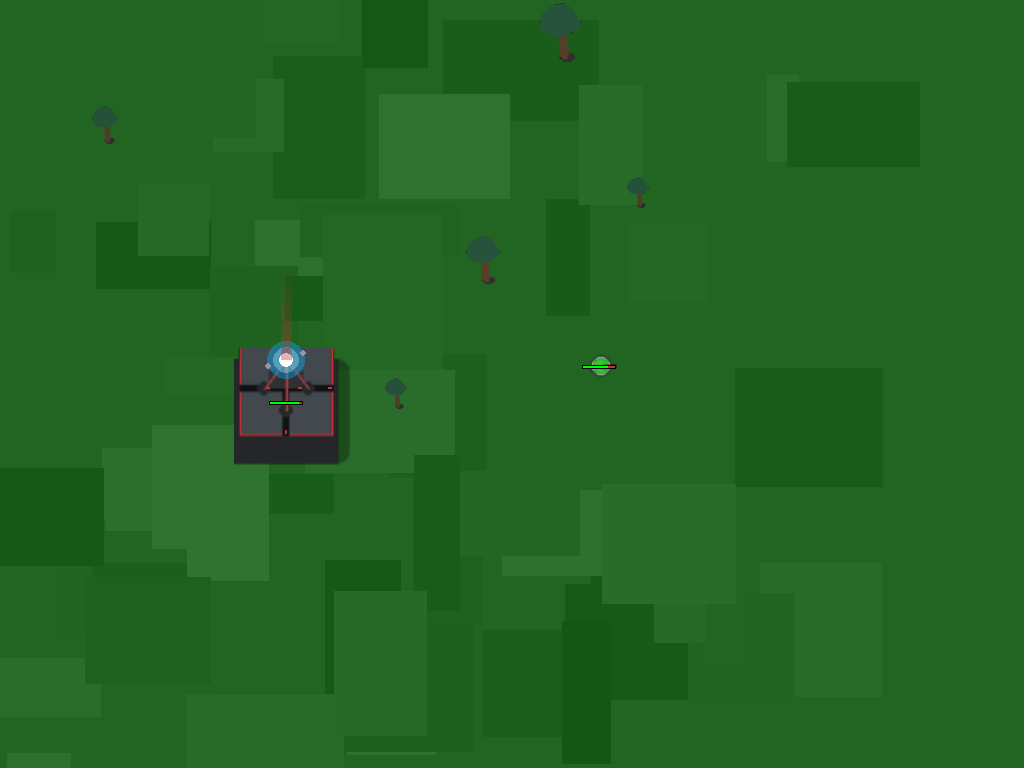Lake: (228, 342, 343, 457)
PowerPlant: (580, 344, 619, 383)
